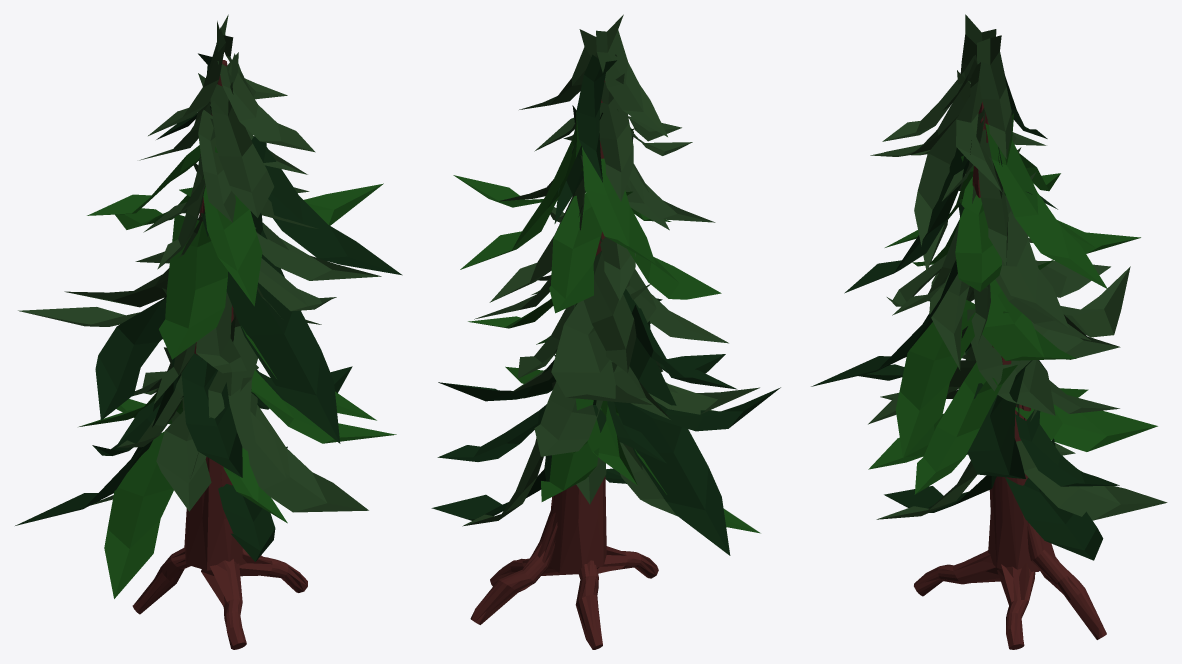
The model's file is Tree1.fbx.
The picture shows the model from 3 angles, left to right: view 1: azimuth 30°, elevation 25°; view 2: azimuth 150°, elevation 25°; view 3: azimuth 270°, elevation 25°; orthographic projection. The views are drawn at different scales.
Parts seen in each view (by area): view 1: Leaves, Trunk; view 2: Leaves, Trunk; view 3: Leaves, Trunk.
Part boxes in pixels (x1,y1,x2,y2): Leaves: [15, 14, 402, 598]; Trunk: [132, 60, 307, 649]; Leaves: [431, 14, 780, 555]; Trunk: [470, 80, 658, 649]; Leaves: [811, 14, 1167, 560]; Trunk: [914, 102, 1106, 649].
Size of the model in its own units: 335 by 602 by 327.
